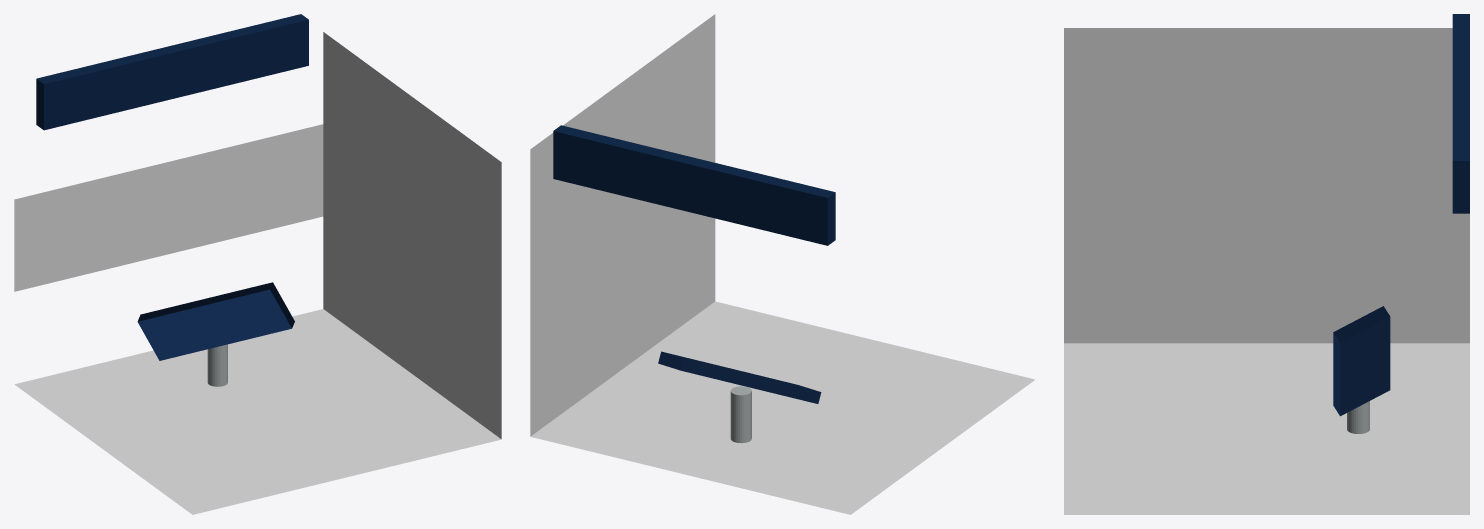
The model's file is model_main_old_0.glb.
The picture shows the model from 3 angles, left to right: view 1: azimuth 30°, elevation 25°; view 2: azimuth 150°, elevation 25°; view 3: azimuth 270°, elevation 25°; orthographic projection. The views are drawn at different scales.
Parts seen in each view (by area): view 1: floor, right_wall, front_wall, Cube, console, console_pod; view 2: floor, right_wall, Cube, console, console_pod; view 3: left_wall, floor, console, Cube, console_pod.
Part boxes in pixels (left/top/right/bottom): floor: left=14, top=309, right=501, bottom=514; right_wall: left=323, top=32, right=501, bottom=438; front_wall: left=14, top=124, right=323, bottom=291; Cube: left=36, top=14, right=308, bottom=130; console: left=137, top=282, right=294, bottom=360; console_pod: left=207, top=344, right=227, bottom=386; floor: left=530, top=301, right=1035, bottom=514; right_wall: left=530, top=14, right=715, bottom=436; Cube: left=553, top=125, right=835, bottom=245; console: left=658, top=351, right=821, bottom=403; console_pod: left=730, top=386, right=751, bottom=443; left_wall: left=1064, top=28, right=1469, bottom=343; floor: left=1064, top=343, right=1469, bottom=514; console: left=1333, top=306, right=1390, bottom=416; Cube: left=1452, top=14, right=1469, bottom=213; console_pod: left=1347, top=401, right=1369, bottom=433.
Size of the model in its own units: 14 by 13 by 14.
